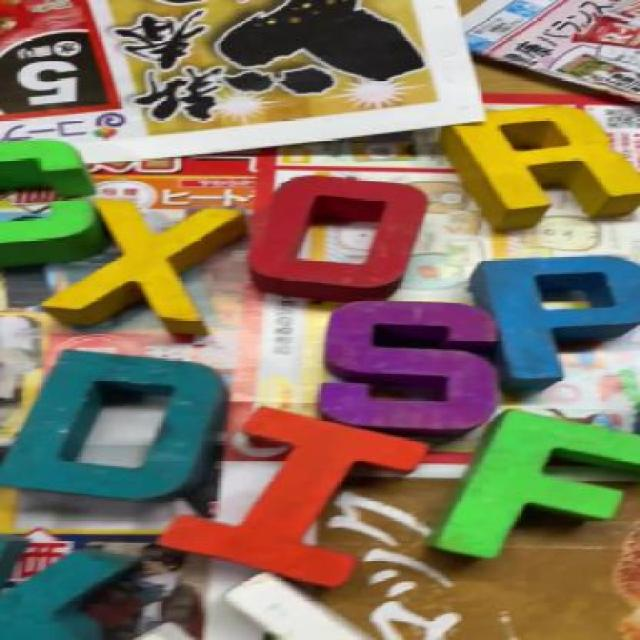D: (0, 351, 235, 497)
F: (428, 412, 640, 552)
I: (144, 403, 433, 602)
O: (253, 178, 425, 293)
P: (473, 250, 639, 387)
R: (446, 109, 640, 222)
S: (330, 298, 502, 433)
X: (62, 202, 250, 333)
